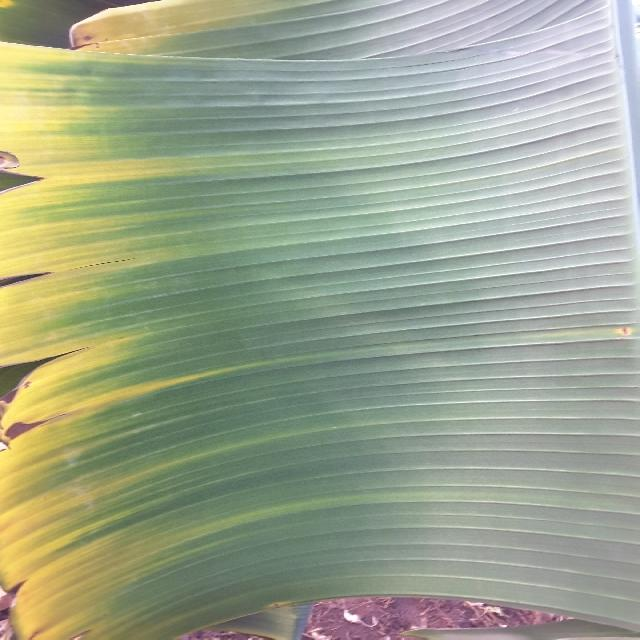Cordana: (0, 0, 464, 639)
